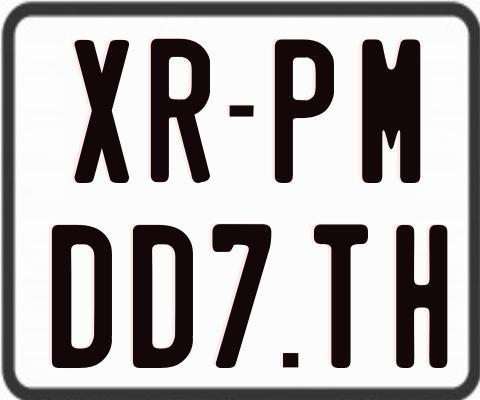7: (212, 221, 276, 368)
D: (132, 224, 196, 372), (49, 225, 111, 373)
H: (396, 224, 447, 368)
M: (359, 37, 420, 183)
P: (273, 39, 334, 187)
R: (149, 37, 213, 183)
T: (314, 224, 368, 371)
X: (72, 40, 130, 186)
